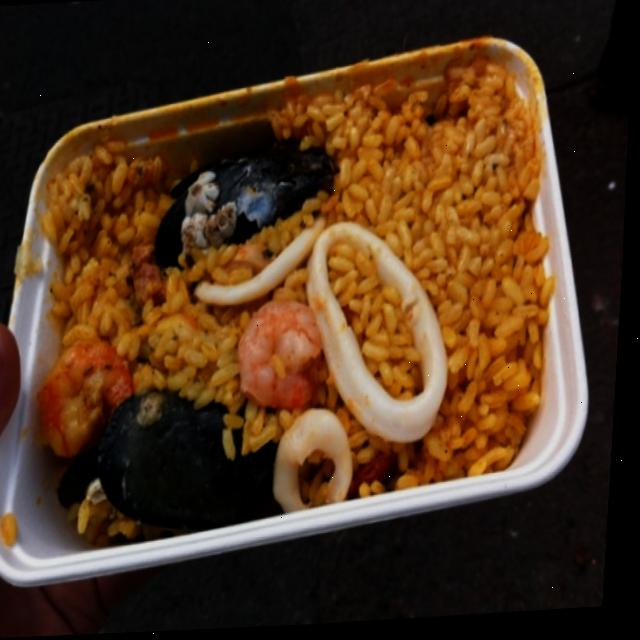蔬菜料理: (66, 25, 556, 522)
